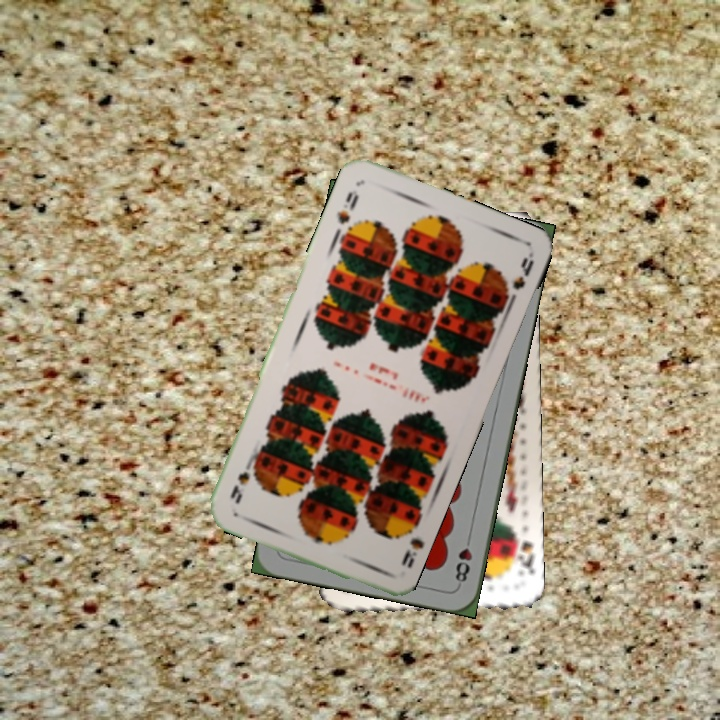H8: (451, 529, 475, 588)
S9: (397, 517, 425, 571), (333, 185, 361, 228)
SK: (508, 527, 536, 580)
